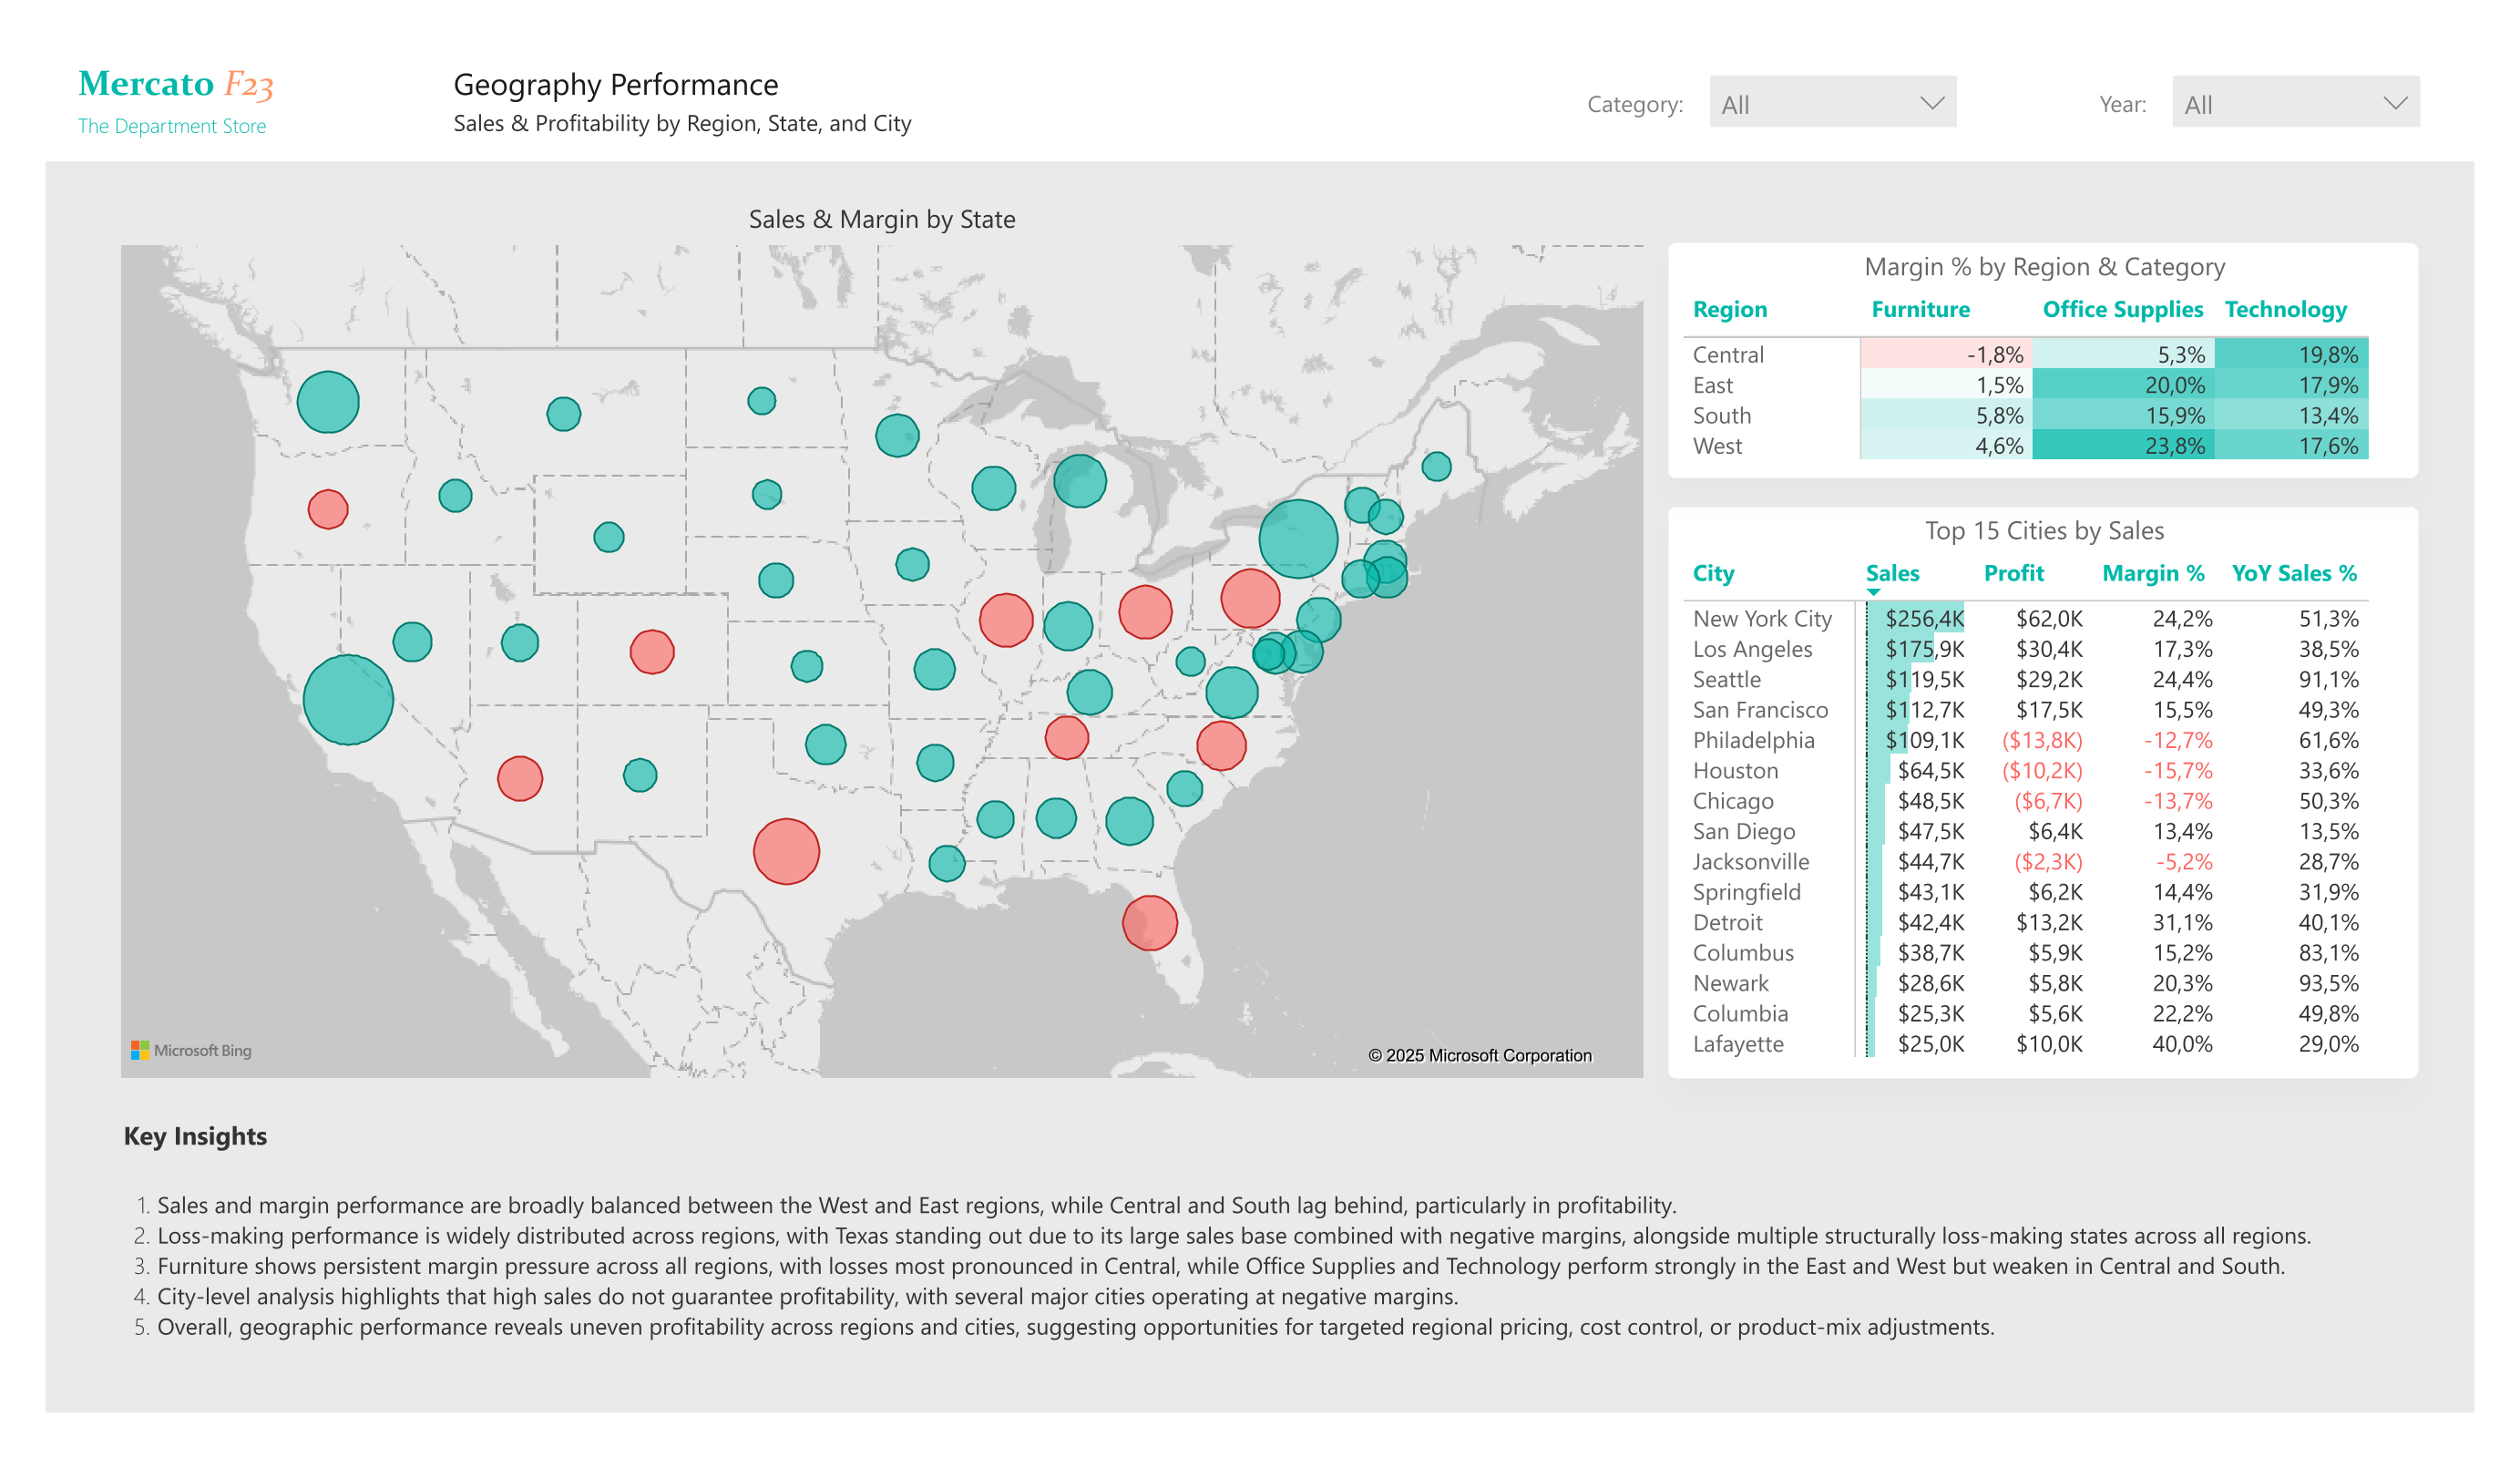

Layout of this report page (visuals, bound fields, positions):
{"tool":"powerbi","page":{"name":"Geography","canvas":[1280,720],"ordinal":3},"visuals":[{"type":"textbox","box":[0,0,1280,61],"z":0},{"type":"textbox","box":[210,4,287.3,50],"z":1000},{"type":"pivotTable","title":"Top 15 Cities by Sales","fields":{"Values":["Measure Table.Total Sales","Measure Table.Total Profit","Measure Table.Profit Margin %","Measure Table.YoY Sales %"],"Rows":["Dim_Geography.City"]},"box":[855,242.9,395,301.4],"z":2000},{"type":"slicer","fields":{"Values":["Dim_Date.Year"]},"box":[1110.9,6.3,150,45.5],"z":3000},{"type":"textbox","box":[1016.2,15.2,95.3,37],"z":4000},{"type":"slicer","fields":{"Values":["Dim_Product.Category"]},"box":[867,6.3,150,45.5],"z":5000},{"type":"textbox","box":[773,15.4,95.5,36.4],"z":6000},{"type":"pivotTable","title":"Margin % by Region & Category","fields":{"Values":["Measure Table.Profit Margin %"],"Rows":["Dim_Geography.Region"],"Columns":["Dim_Product.Category"]},"box":[855,104,395,124],"z":7000},{"type":"textbox","box":[36,558.7,1215,130.1],"z":9000},{"type":"map","title":"Sales & Margin by State","fields":{"Category":["Dim_Geography.State"],"Size":["Measure Table.Total Sales"]},"box":[34.7,81.8,812,467],"z":10000},{"type":"textbox","box":[12.2,3,133.3,54],"z":11000}]}

Visuals, with their boxes in screenshot pixels (x1, y1, x2, y2):
textbox: (46,46,2474,161)
textbox: (444,53,989,148)
"Top 15 Cities by Sales" pivotTable: (1668,507,2418,1079)
slicer - Dim_Date.Year: (2154,57,2438,144)
textbox: (1974,75,2155,145)
slicer - Dim_Product.Category: (1691,57,1975,144)
textbox: (1512,75,1694,144)
"Margin % by Region & Category" pivotTable: (1668,243,2418,478)
textbox: (114,1106,2420,1353)
"Sales & Margin by State" map: (111,200,1653,1087)
textbox: (68,51,322,154)
